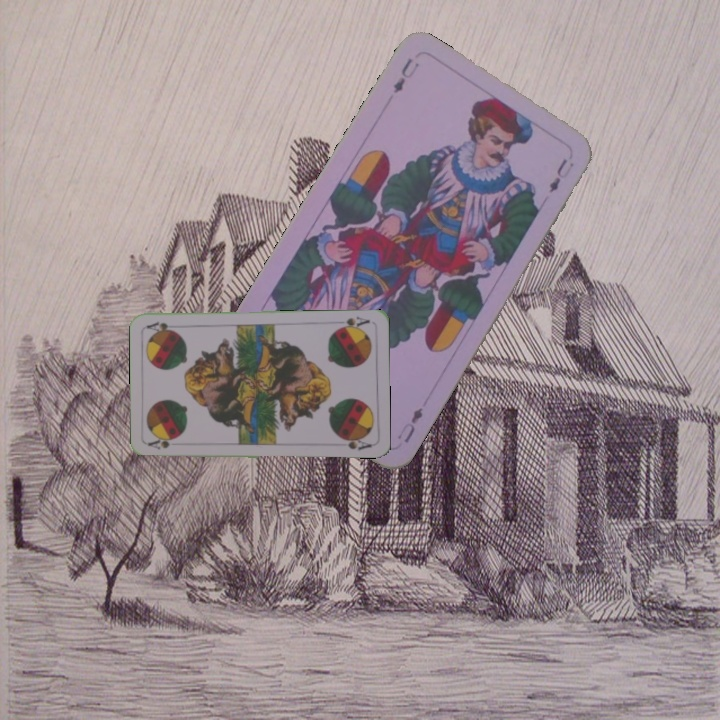EU: (393, 403, 426, 446), (389, 54, 422, 96)
SA: (333, 313, 372, 333), (145, 435, 176, 452)
